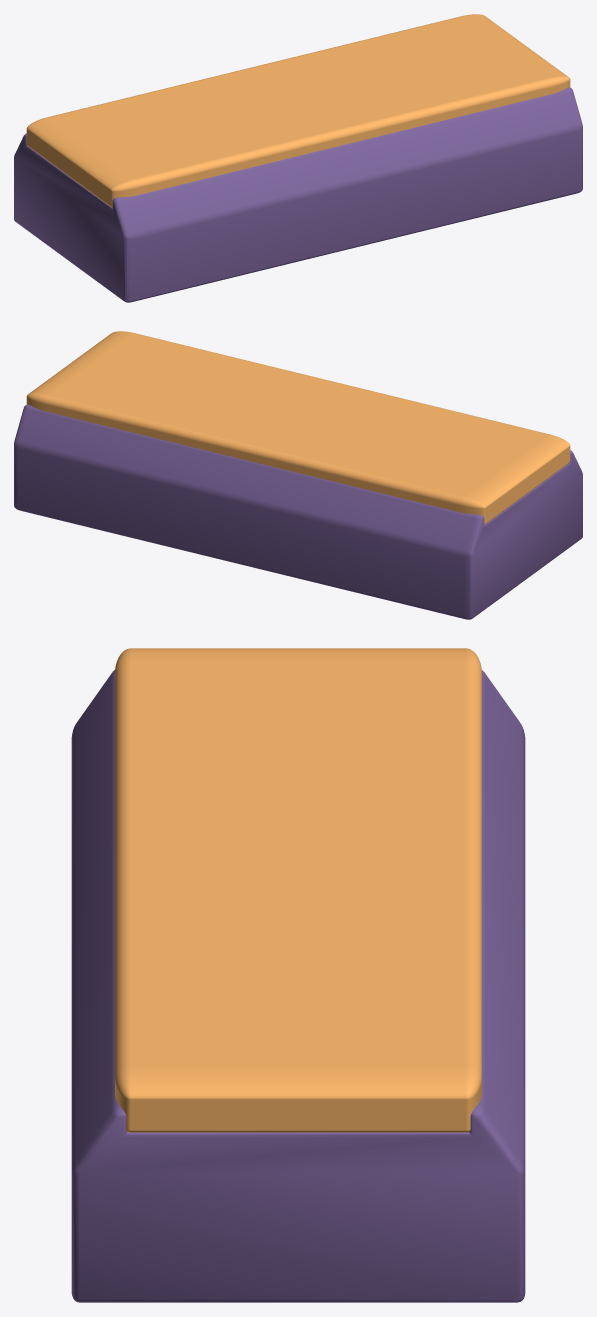
3 renders of one model, top to bottom at view 1: azimuth 30°, elevation 25°; view 2: azimuth 150°, elevation 25°; view 3: azimuth 270°, elevation 25°, orthographic. The views are drawn at different scales.
Visible parts, largest first — view 1: Cube.014, Plane.018; view 2: Cube.014, Plane.018; view 3: Plane.018, Cube.014.
Boxes of the visible parts, left/top/right/bottom form: Cube.014: left=14, top=87, right=582, bottom=302; Plane.018: left=26, top=14, right=570, bottom=207; Cube.014: left=14, top=404, right=582, bottom=619; Plane.018: left=26, top=331, right=570, bottom=524; Plane.018: left=115, top=648, right=481, bottom=1132; Cube.014: left=71, top=670, right=525, bottom=1302.
Bounding box in the file's own units: 311 × 70.78 × 133.
